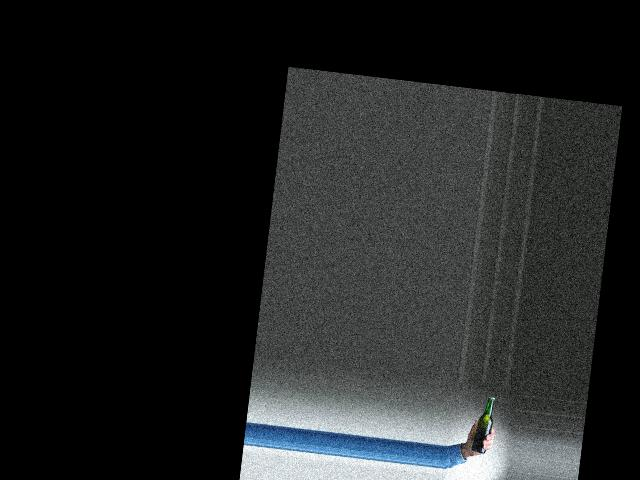beer: (470, 395, 496, 453)
